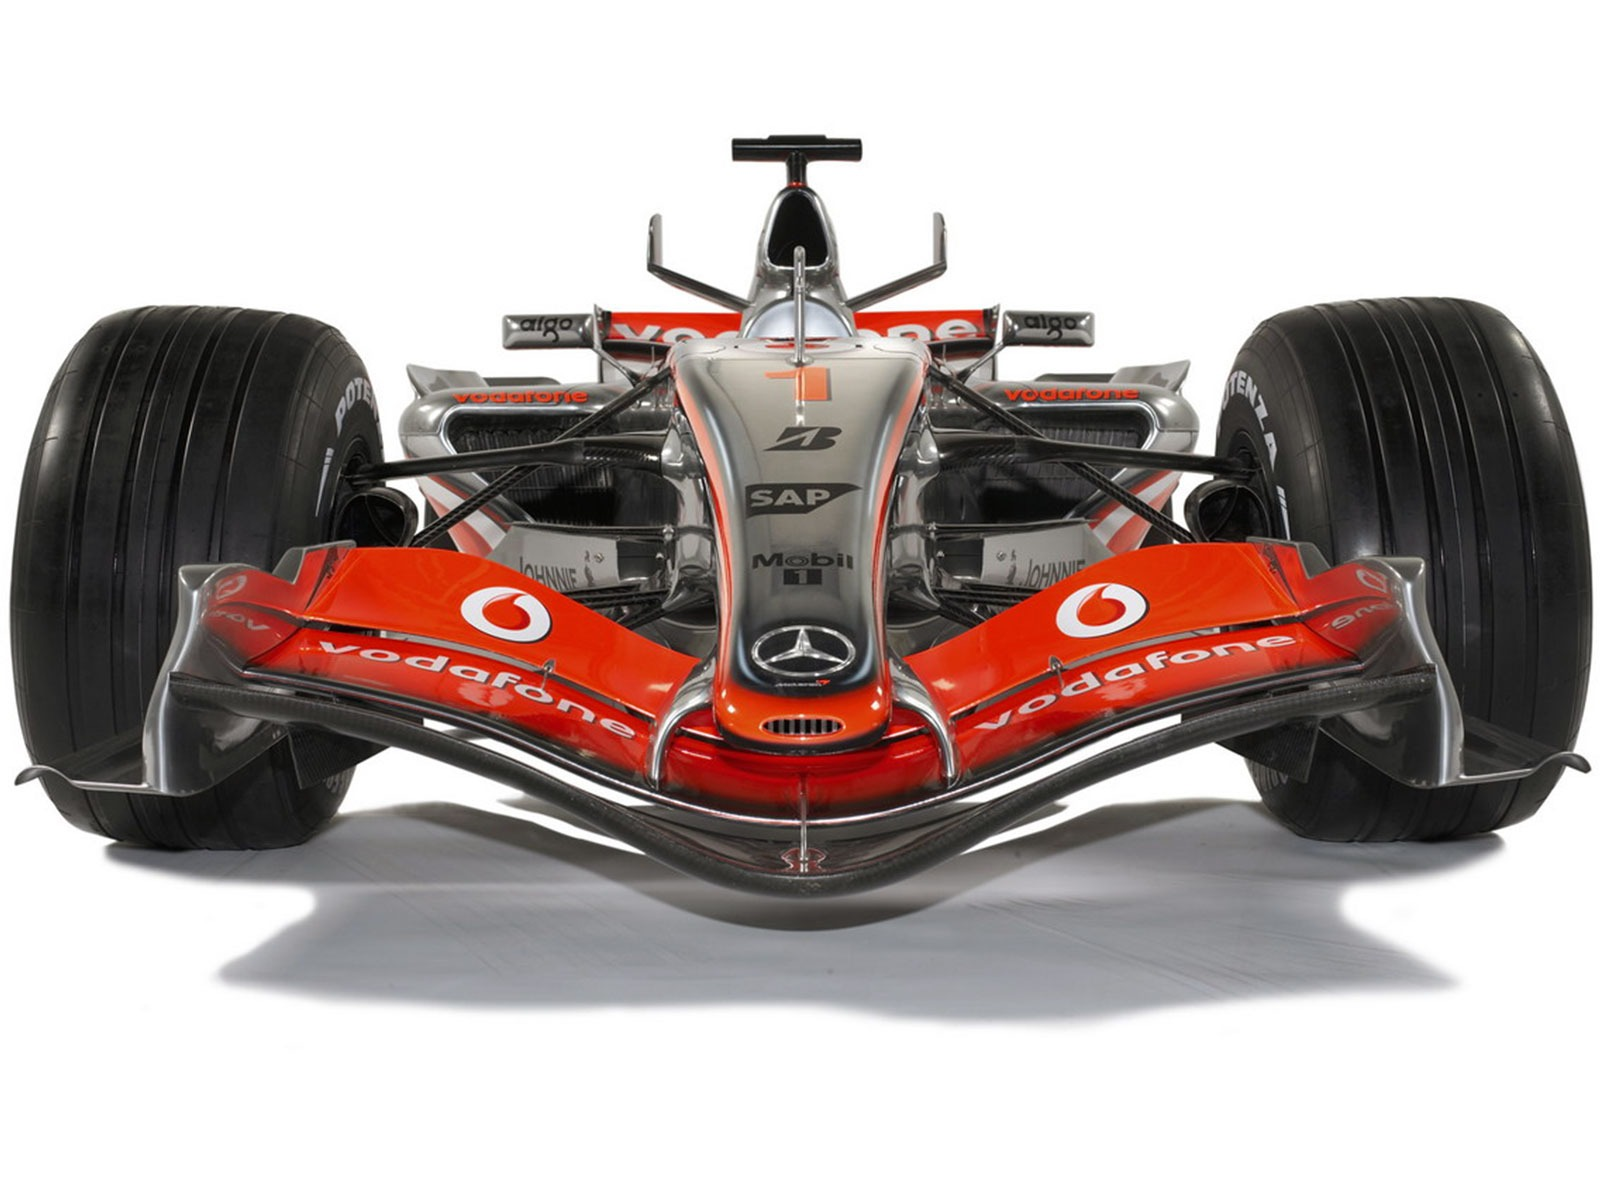f1_car: (3, 106, 1597, 976)
